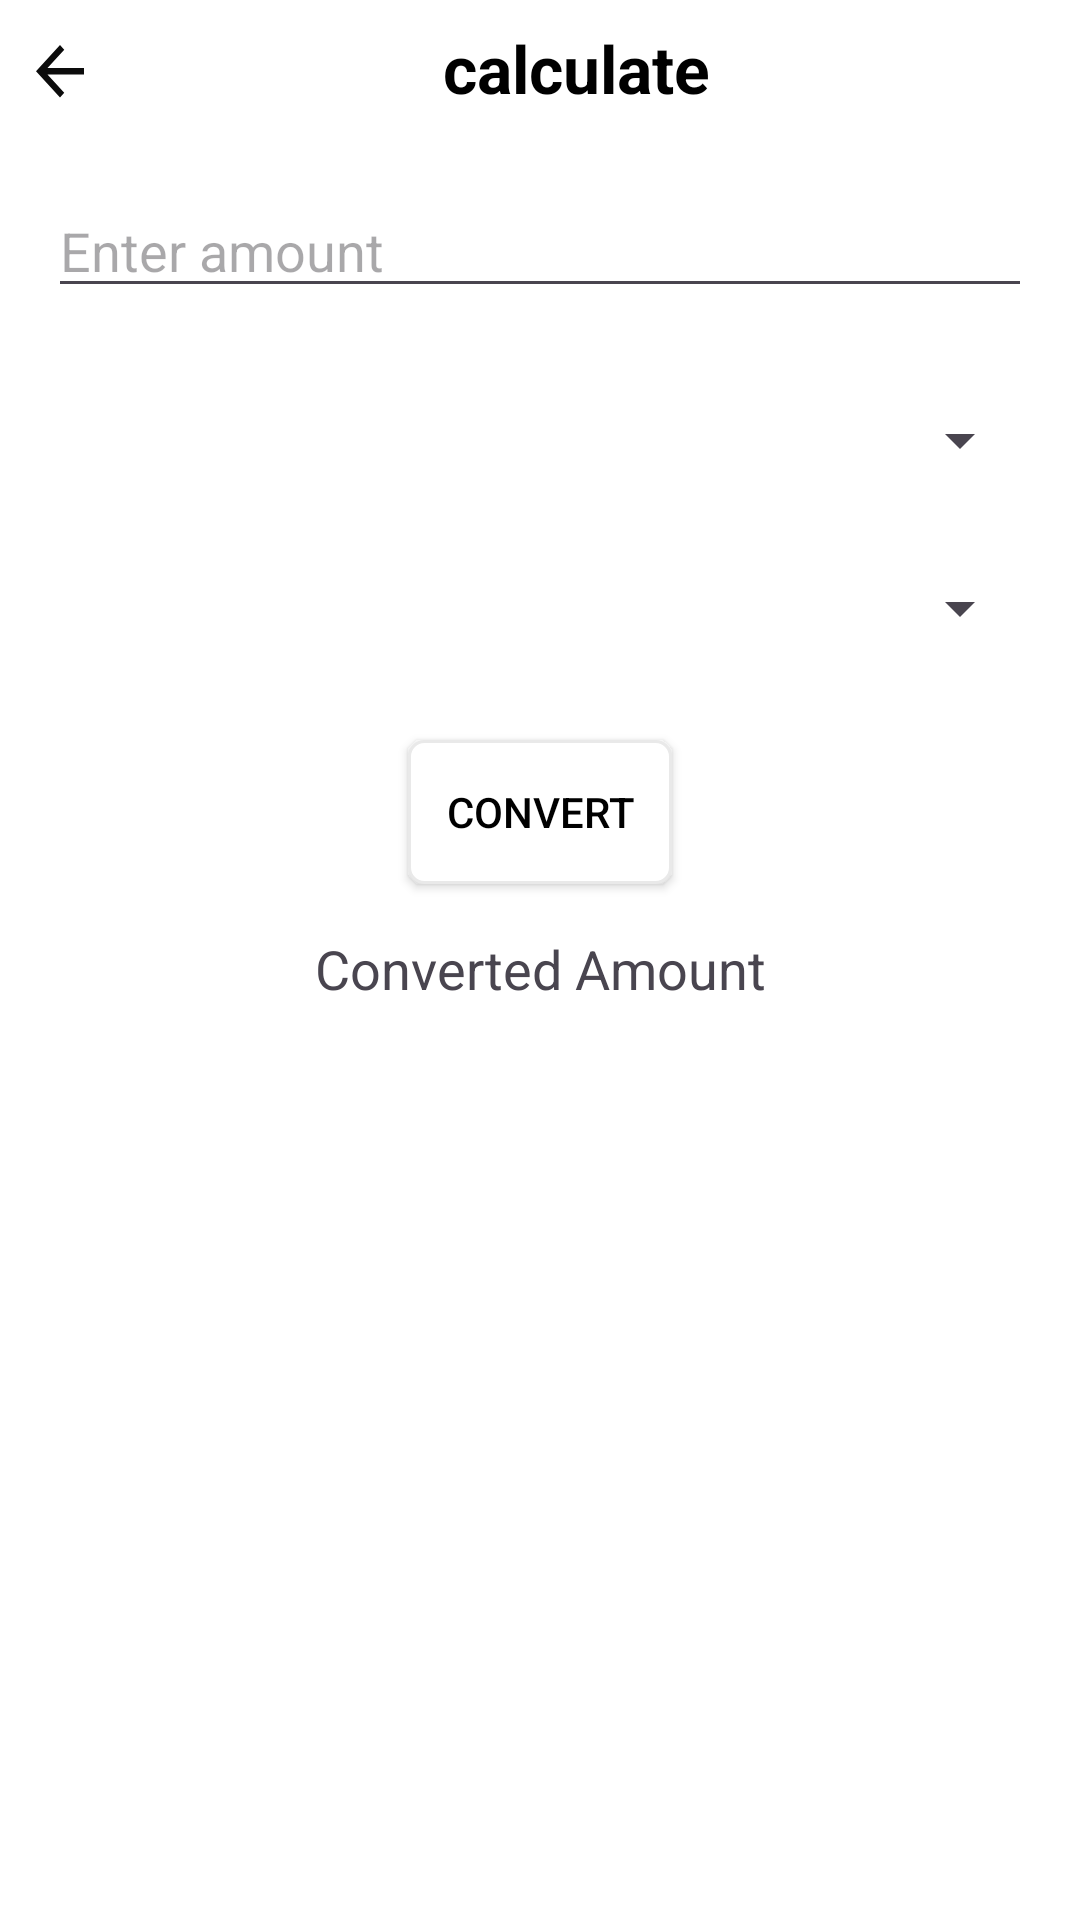

Icons on this 1080px x 1920px Android screen, each with the point to tap as point (x, y):
back: point (60, 71)
